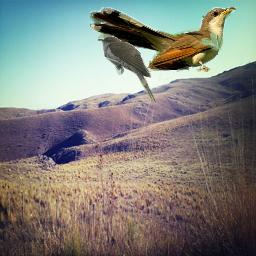Cuckoo: (90, 7, 236, 72), (97, 36, 156, 103)
